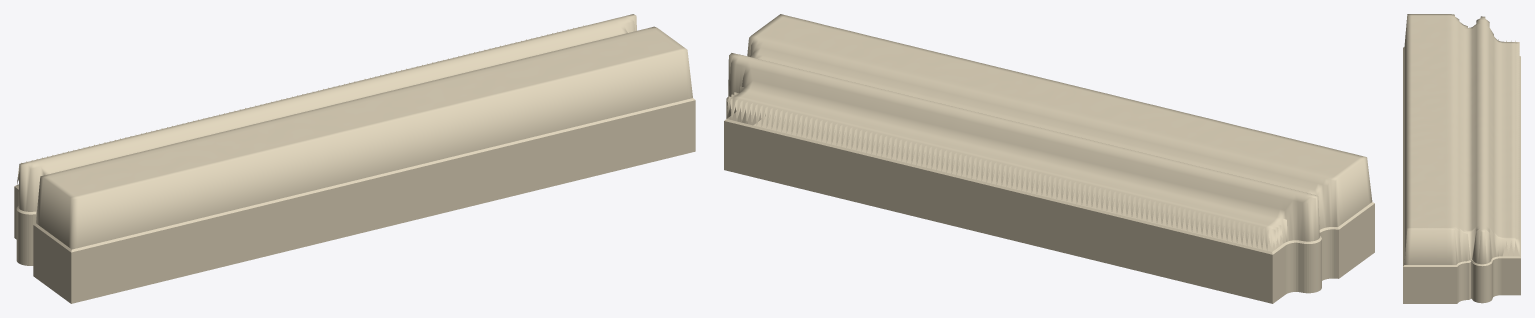
File: mahsulot.glb
The picture shows the model from 3 angles, left to right: view 1: azimuth 30°, elevation 25°; view 2: azimuth 150°, elevation 25°; view 3: azimuth 270°, elevation 25°; orthographic projection. The views are drawn at different scales.
Visible parts, largest first — view 1: mahsulot; view 2: mahsulot; view 3: mahsulot.
Boxes of the visible parts, <box> form: mahsulot: <box>14,14,695,303</box>; mahsulot: <box>724,14,1374,303</box>; mahsulot: <box>1403,14,1520,303</box>.
Bounding box in the file's own units: 0.55 × 0.0849 × 0.125.
